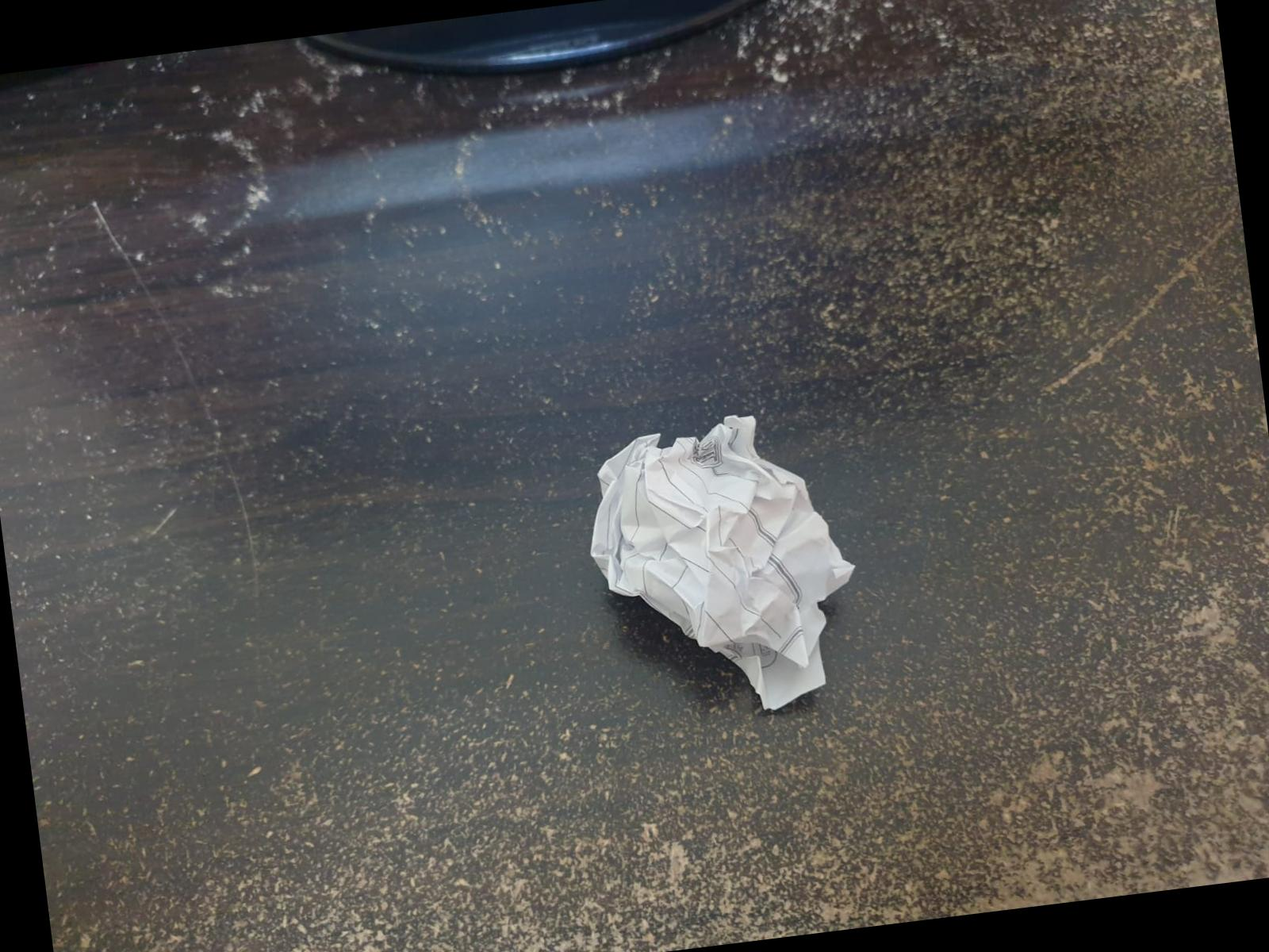Kertas: (582, 419, 862, 729)
